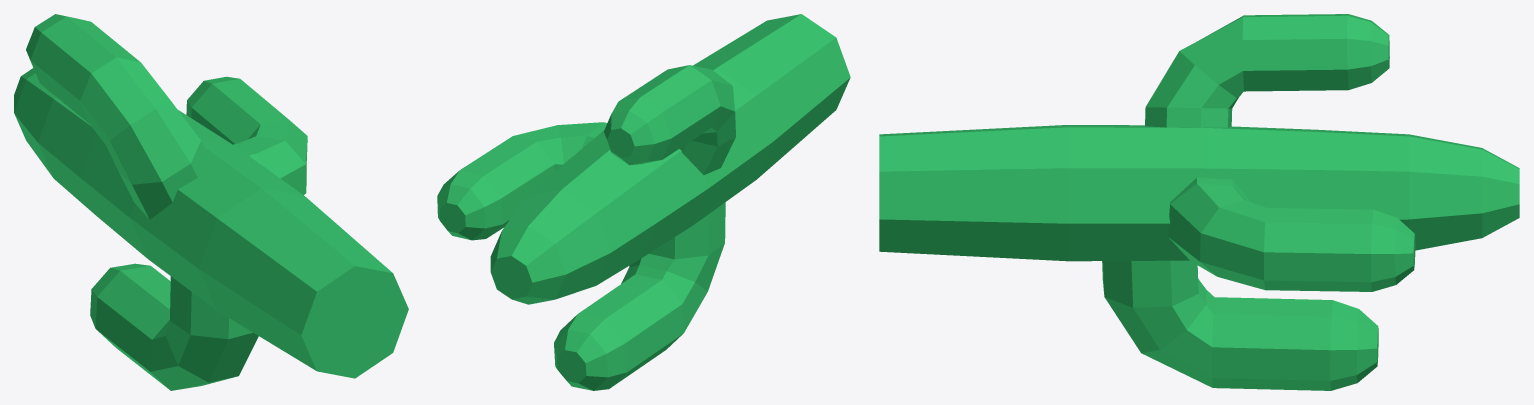
File: BigCactus_3.fbx
The picture shows the model from 3 angles, left to right: view 1: azimuth 30°, elevation 25°; view 2: azimuth 150°, elevation 25°; view 3: azimuth 270°, elevation 25°; orthographic projection. The views are drawn at different scales.
Visible parts, largest first — view 1: BigCactus_3; view 2: BigCactus_3; view 3: BigCactus_3.
Part boxes in pixels (bbox=[...]): BigCactus_3: bbox=[14, 14, 408, 390]; BigCactus_3: bbox=[437, 14, 850, 390]; BigCactus_3: bbox=[879, 14, 1519, 390].
Size of the model in its own units: 139 by 186 by 318.
